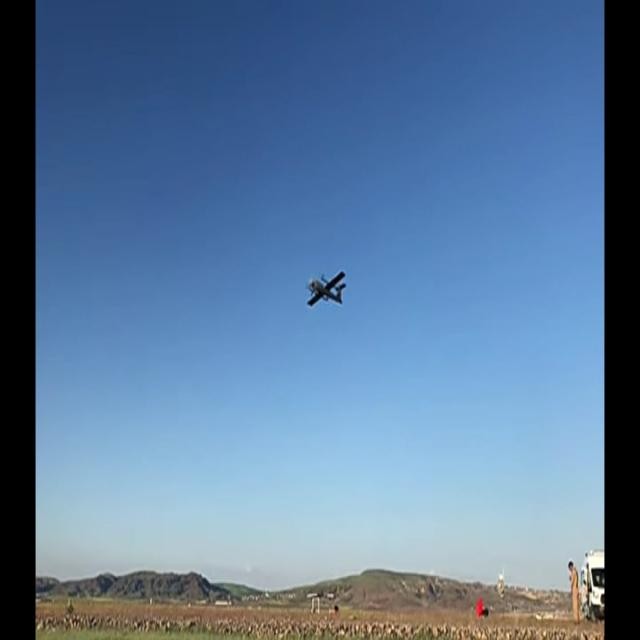iha: (300, 268, 341, 308)
